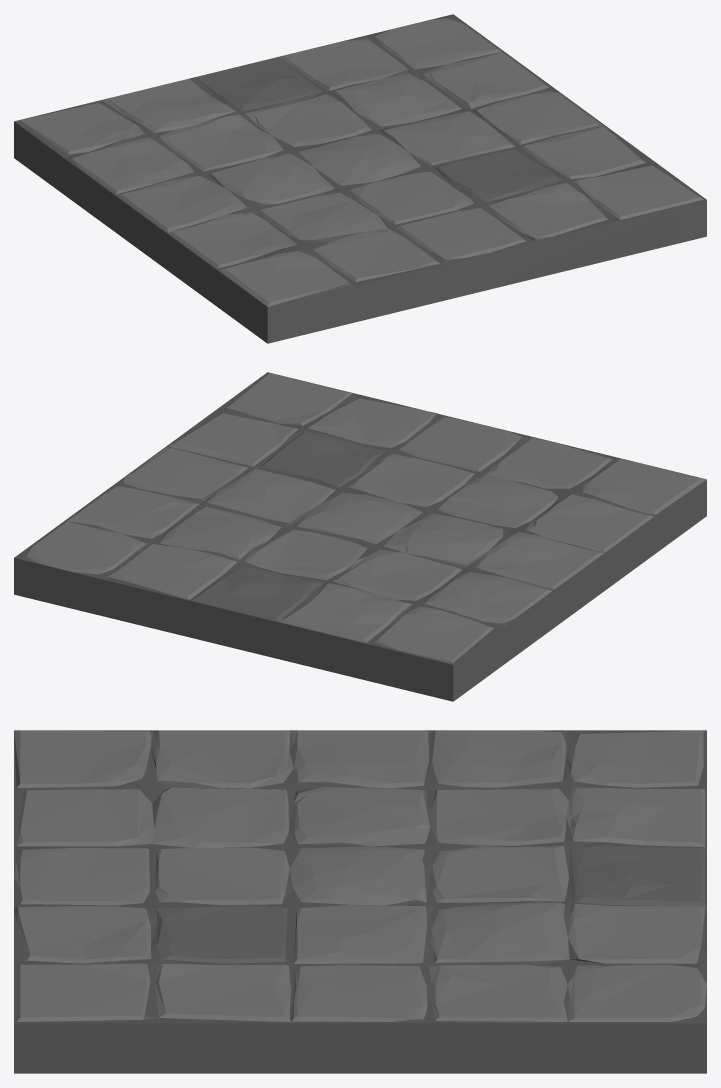
File: Floor_06.glb
3 renders of one model, top to bottom at view 1: azimuth 30°, elevation 25°; view 2: azimuth 150°, elevation 25°; view 3: azimuth 270°, elevation 25°, orthographic. The views are drawn at different scales.
Parts seen in each view (by area): view 1: Floor_06_LOD0; view 2: Floor_06_LOD0; view 3: Floor_06_LOD0.
Part boxes in pixels (bbox=[...]): Floor_06_LOD0: bbox=[14, 14, 706, 343]; Floor_06_LOD0: bbox=[14, 372, 706, 701]; Floor_06_LOD0: bbox=[14, 730, 706, 1073].
Size of what is drawn, in the model's own units: 2.5 by 0.2316 by 2.5.
1 material, 1 textured.
